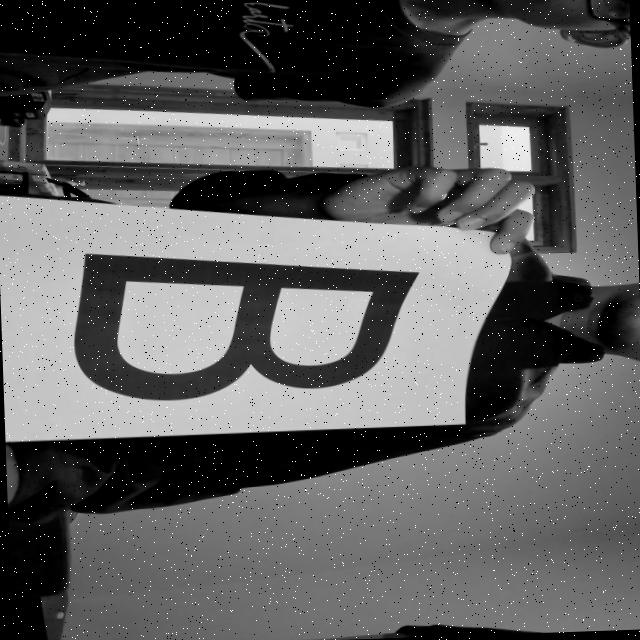b: (28, 237, 458, 412)
